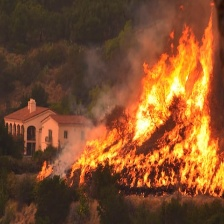fire: (77, 23, 217, 193)
smoke: (89, 41, 132, 106), (52, 119, 81, 163)
